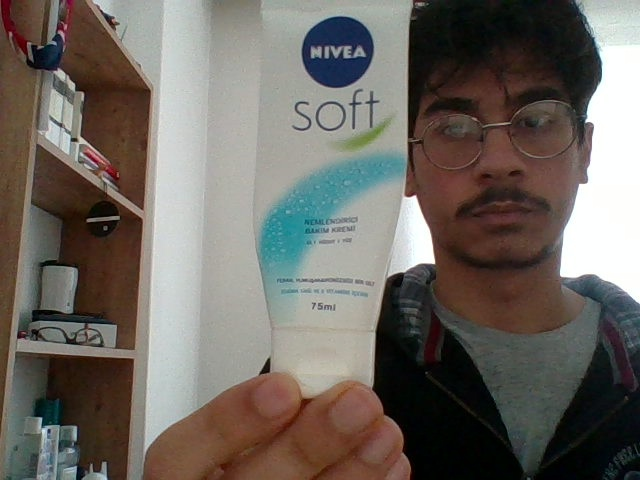NiveaSoft: (255, 2, 408, 331)
